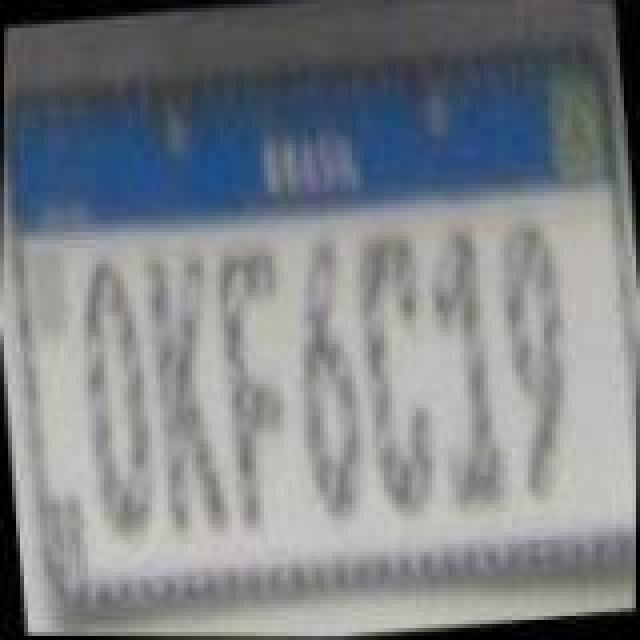1: (424, 224, 520, 512)
6: (278, 234, 374, 530)
9: (488, 218, 584, 502)
C: (344, 232, 444, 528)
F: (206, 242, 302, 534)
K: (136, 242, 236, 534)
O: (66, 248, 162, 544)
